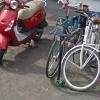bicycles: (60, 11, 100, 94)
